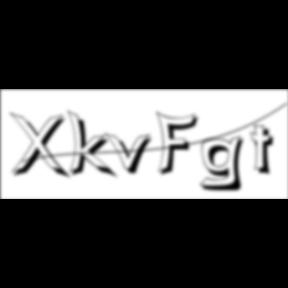F: (156, 110, 204, 178)
X: (9, 112, 73, 182)
g: (199, 134, 251, 194)
k: (68, 108, 120, 181)
t: (251, 124, 282, 179)
v: (105, 131, 159, 177)
